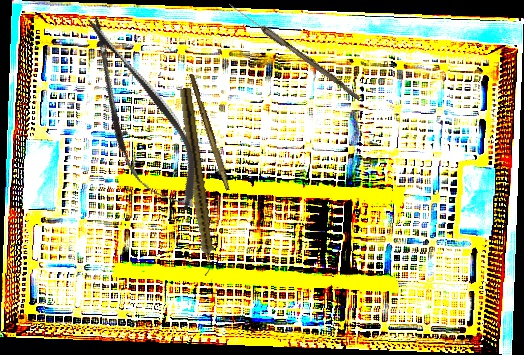Handpiece: (175, 87, 218, 277)
Micro Scissor: (60, 3, 217, 226)
Scalpel Handle: (186, 73, 234, 191)
Surgical Spoon: (226, 1, 363, 101)
